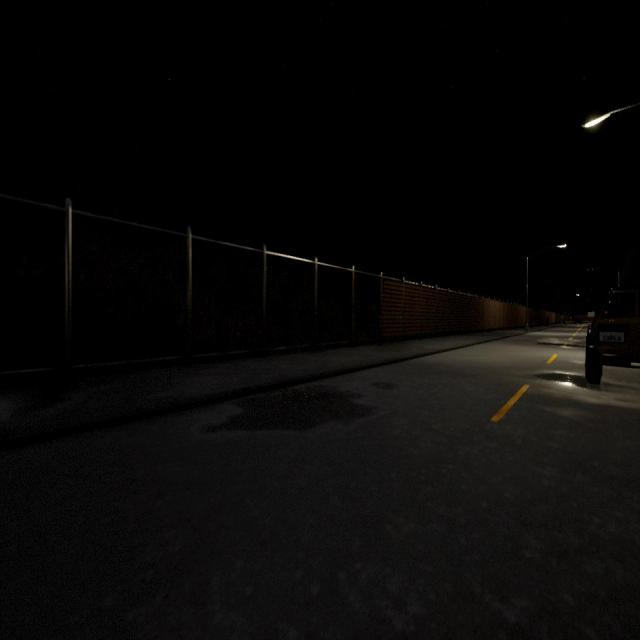Vehicle: (585, 290, 639, 383)
